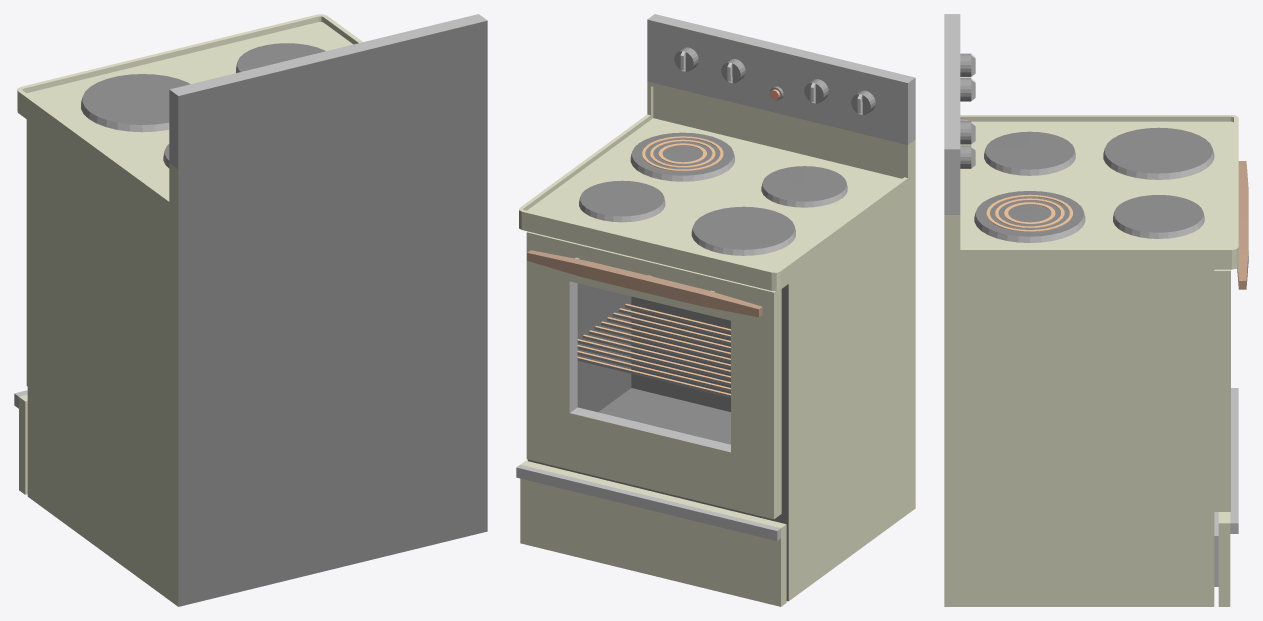
Rendered from Range.fbx.
3 renders of one model, left to right at view 1: azimuth 30°, elevation 25°; view 2: azimuth 150°, elevation 25°; view 3: azimuth 270°, elevation 25°, orthographic. The views are drawn at different scales.
Parts seen in each view (by area): view 1: Range, Range Drawer; view 2: Range, Range Door, Range Drawer, Grate, Grate Heat, Burner; view 3: Range, Range Door, Range Drawer, Burner.
Part boxes in pixels (box(x1,y1,x2,y2)): Range: box(17, 14, 487, 606); Range Drawer: box(14, 390, 27, 494); Range: box(519, 14, 915, 601); Range Door: box(526, 231, 781, 519); Range Drawer: box(516, 460, 786, 606); Grate: box(577, 305, 730, 397); Grate Heat: box(577, 303, 730, 395); Burner: box(642, 136, 723, 171); Range: box(944, 14, 1238, 606); Range Door: box(1214, 161, 1248, 511); Range Drawer: box(1214, 388, 1238, 606); Burner: box(986, 194, 1072, 231).
Size of the model in its own units: 0.762 by 1.2 by 0.7248.
